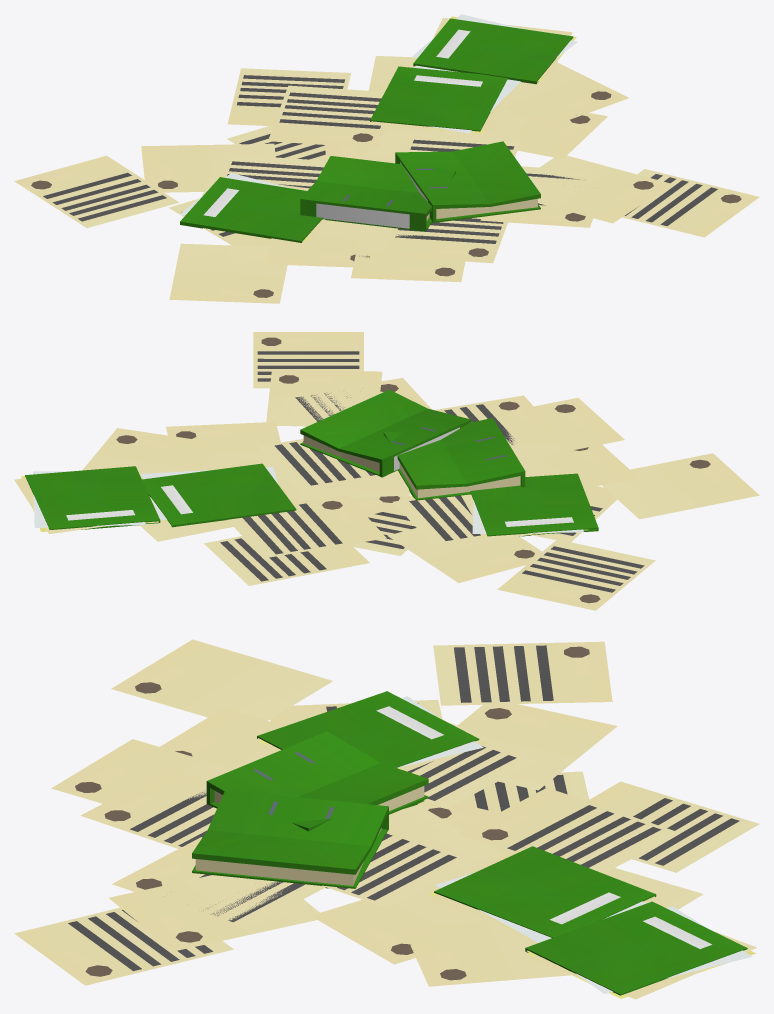
Rendered from papeles_piso.fbx.
The picture shows the model from 3 angles, top to bottom: view 1: azimuth 30°, elevation 25°; view 2: azimuth 150°, elevation 25°; view 3: azimuth 270°, elevation 25°; orthographic projection. The views are drawn at different scales.
Visible parts, largest first — view 1: conjunto_carpetas_v2, conjunto_carpetas_v1, conjunto_hojas; view 2: conjunto_carpetas_v2, conjunto_carpetas_v1, conjunto_hojas; view 3: conjunto_carpetas_v2, conjunto_carpetas_v1, conjunto_hojas.
Boxes of the visible parts, x1,y1,x2,y2 form: conjunto_carpetas_v2: [141, 14, 759, 303]; conjunto_carpetas_v1: [179, 65, 607, 267]; conjunto_hojas: [14, 62, 671, 282]; conjunto_carpetas_v2: [14, 332, 759, 582]; conjunto_carpetas_v1: [140, 378, 638, 558]; conjunto_hojas: [82, 369, 655, 610]; conjunto_carpetas_v2: [14, 639, 756, 999]; conjunto_carpetas_v1: [112, 691, 680, 964]; conjunto_hojas: [51, 641, 759, 986].
Size of the model in its own units: 0.5986 by 0.0193 by 0.5215.
